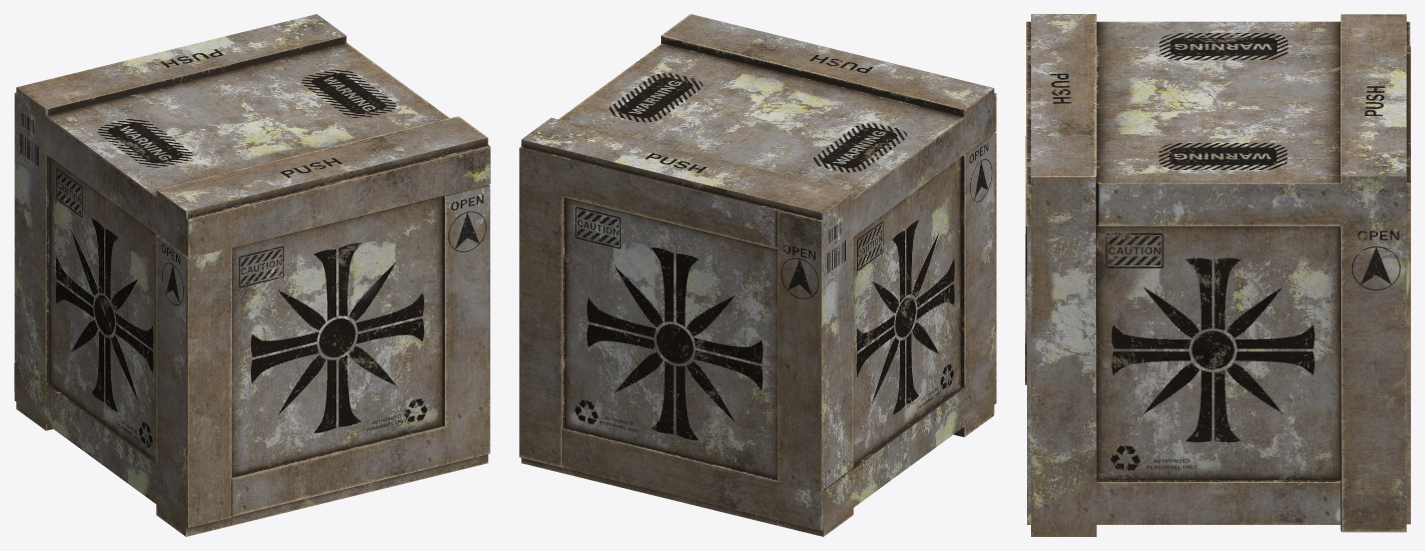
File: box_low_poly_builder_tool_far_cry.glb
3 views of the same model, side by side, from view 1: azimuth 30°, elevation 25°; view 2: azimuth 150°, elevation 25°; view 3: azimuth 270°, elevation 25° (orthographic). The views are drawn at different scales.
Parts seen in each view (by area): view 1: Cube; view 2: Cube; view 3: Cube.
Part boxes in pixels (<box>): Cube: <box>14,14,490,536</box>; Cube: <box>519,14,996,536</box>; Cube: <box>1025,14,1410,536</box>.
Bounding box in the file's own units: 2.06 × 2.11 × 2.05.
Materials: 1 (1 with a texture image).
